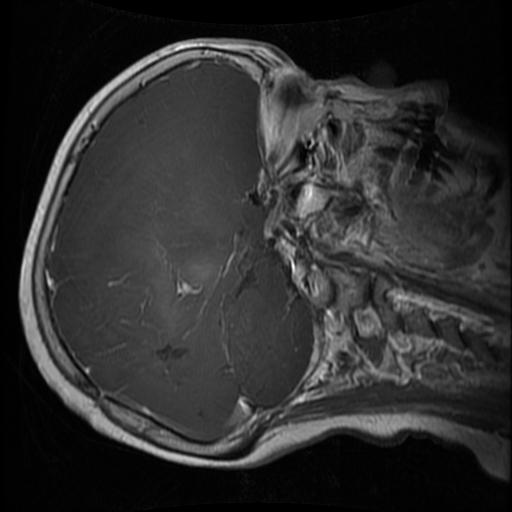glioma: (149, 342, 187, 364)
